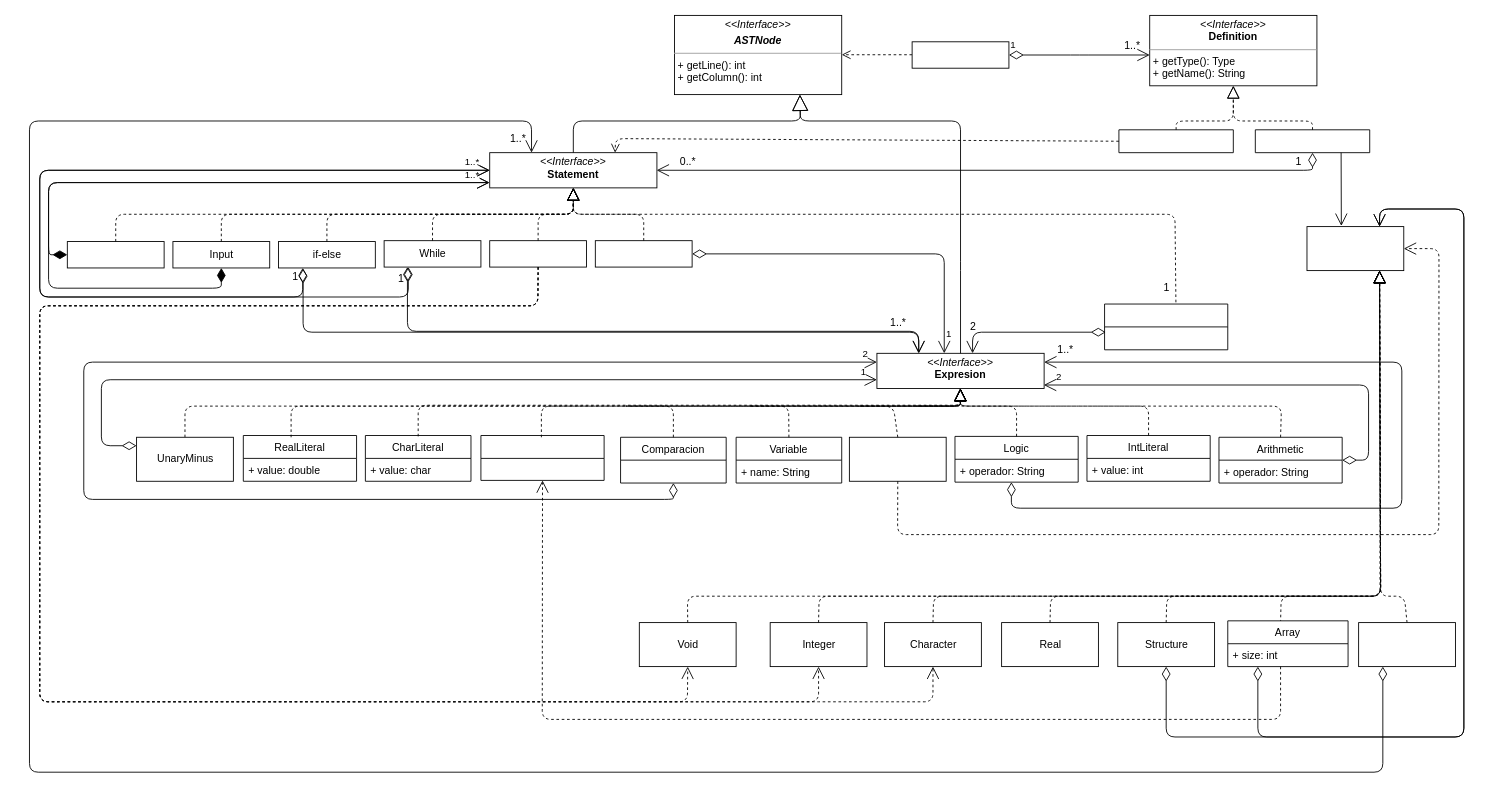
This 1494x803 diagram has some shape labels left out. The shapes that lost their labels are listed below. From the top down, each one's centre as x and y in pixels, then its label:
At point 960,54: "Program".
At point 1175,141: "VariableDefinition".
At point 1312,141: "FunctionDefinition".
At point 115,254: "Print".
At point 538,253: "Return".
At point 643,253: "invokeFunction".
At point 1355,248: "«interface» Type".
At point 1166,326: "Assigment".
At point 542,457: "Indexer".
At point 897,458: "Cast".
At point 1406,644: "FunctionType".
